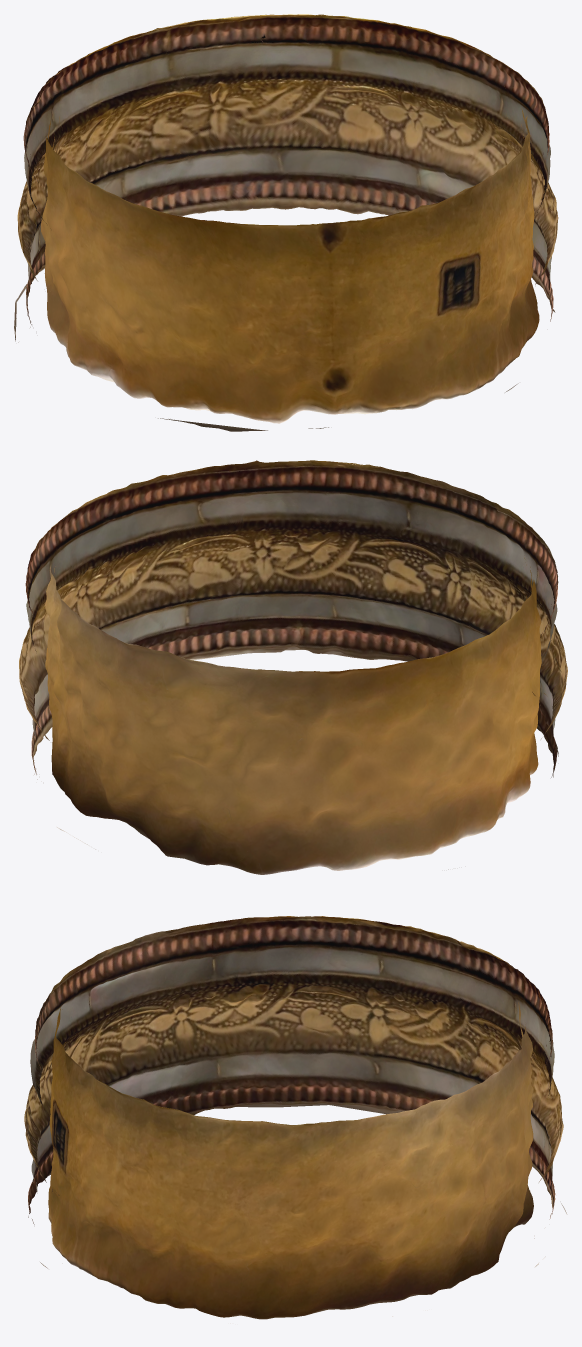
The model's file is indian_bangle.glb.
3 views of the same model, one above another, from view 1: azimuth 30°, elevation 25°; view 2: azimuth 150°, elevation 25°; view 3: azimuth 270°, elevation 25° (orthographic). The views are drawn at different scales.
Parts seen in each view (by area): view 1: Object_4; view 2: Object_4; view 3: Object_4.
Part boxes in pixels (x1,y1,x2,y2): Object_4: (14,14,558,431); Object_4: (19,460,567,874); Object_4: (24,916,567,1323).
Size of the model in its own units: 0.0812 by 0.0355 by 0.0826.
1 material, 1 textured.
